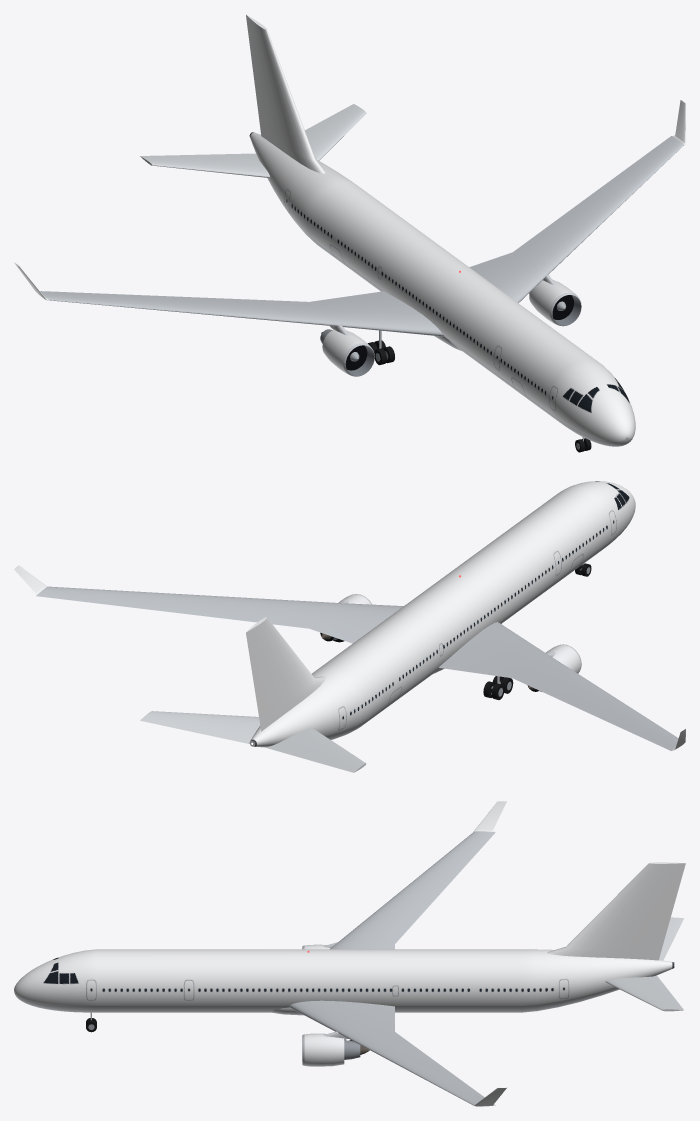
The picture shows the model from 3 angles, top to bottom: view 1: azimuth 30°, elevation 25°; view 2: azimuth 150°, elevation 25°; view 3: azimuth 270°, elevation 25°; orthographic projection. The views are drawn at different scales.
Parts seen in each view (by area): view 1: body, gear; view 2: body, gear; view 3: body.
Part boxes in pixels (x1,y1,x2,y2): body: (14,14,685,446); gear: (368,330,591,452); body: (14,481,685,772); gear: (483,563,591,699); body: (14,801,685,1106).
Size of the model in its own units: 60.47 by 16.41 by 59.86.
19 materials, 1 textured.
